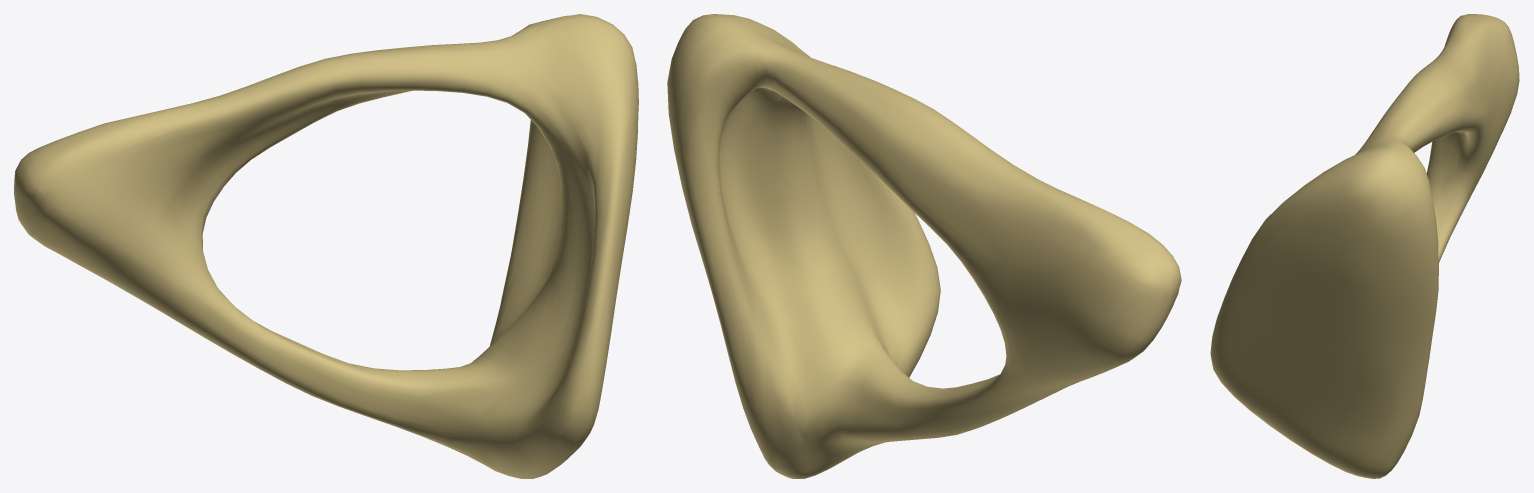
3 renders of one model, left to right at view 1: azimuth 30°, elevation 25°; view 2: azimuth 150°, elevation 25°; view 3: azimuth 270°, elevation 25°, orthographic. The views are drawn at different scales.
Parts seen in each view (by area): view 1: 右侧镫骨; view 2: 右侧镫骨; view 3: 右侧镫骨.
Boxes of the visible parts, left/top/right/bottom form: 右侧镫骨: left=14, top=14, right=638, bottom=478; 右侧镫骨: left=667, top=14, right=1181, bottom=478; 右侧镫骨: left=1210, top=14, right=1519, bottom=478.
Size of the model in its own units: 0.00597 by 0.0045 by 0.00358.
